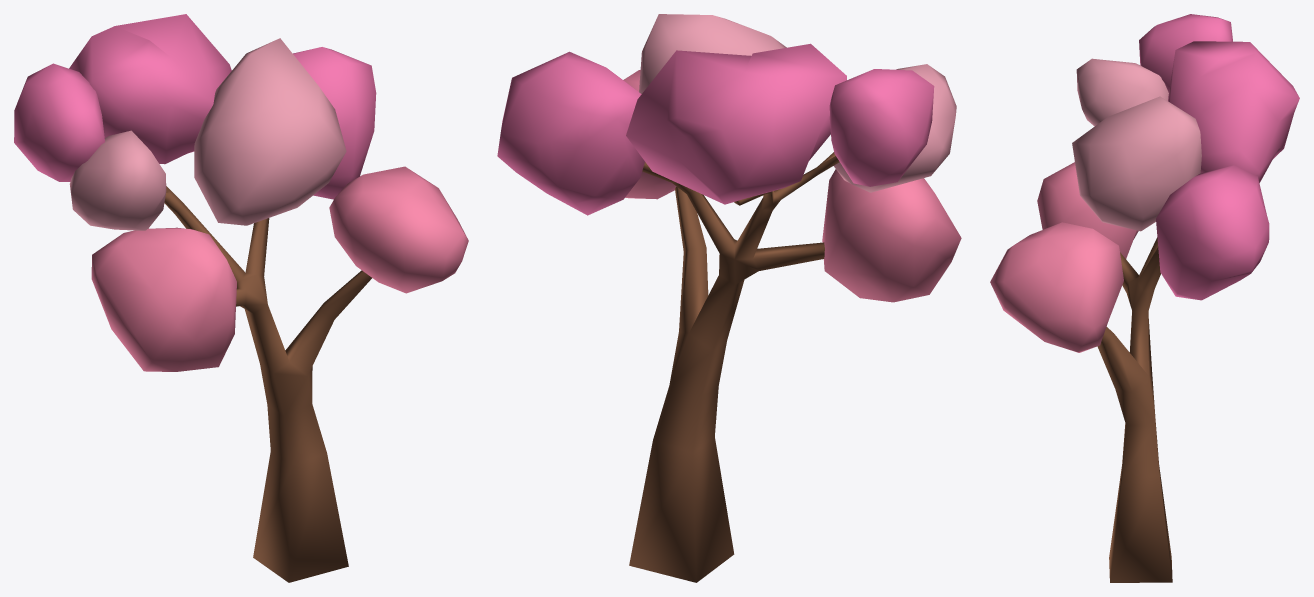
File: Sakura_4.fbx
3 renders of one model, left to right at view 1: azimuth 30°, elevation 25°; view 2: azimuth 150°, elevation 25°; view 3: azimuth 270°, elevation 25°, orthographic. The views are drawn at different scales.
Parts seen in each view (by area): view 1: Cube_168, Tree2_Leave6_001, Tree2_Leave3_003, Tree2_Leave4_001, Tree2_Leave1_001, Tree2_Leave1_002, Tree2_Leave2_001, Tree2_Leave5_001; view 2: Cube_168, Tree2_Leave4_001, Tree2_Leave5_001, Tree2_Leave3_003, Tree2_Leave1_002, Tree2_Leave6_001, Tree2_Leave2_001, Tree2_Leave1_001; view 3: Cube_168, Tree2_Leave4_001, Tree2_Leave1_001, Tree2_Leave6_001, Tree2_Leave5_001, Tree2_Leave2_001, Tree2_Leave3_003, Tree2_Leave1_002.
Boxes of the visible parts, x1,y1,x2,y2 form: Cube_168: (164, 186, 371, 582); Tree2_Leave6_001: (194, 38, 346, 225); Tree2_Leave3_003: (91, 227, 236, 371); Tree2_Leave4_001: (69, 14, 231, 164); Tree2_Leave1_001: (329, 166, 468, 293); Tree2_Leave1_002: (14, 63, 104, 181); Tree2_Leave2_001: (69, 130, 166, 230); Tree2_Leave5_001: (293, 47, 376, 199); Cube_168: (629, 152, 839, 582); Tree2_Leave4_001: (626, 43, 846, 204); Tree2_Leave5_001: (497, 51, 644, 215); Tree2_Leave3_003: (822, 169, 961, 302); Tree2_Leave1_002: (829, 69, 934, 186); Tree2_Leave6_001: (639, 14, 786, 93); Tree2_Leave2_001: (833, 64, 956, 192); Tree2_Leave1_001: (623, 70, 676, 199); Cube_168: (1097, 237, 1172, 582); Tree2_Leave4_001: (1168, 41, 1299, 182); Tree2_Leave1_001: (990, 222, 1123, 352); Tree2_Leave6_001: (1072, 96, 1201, 231); Tree2_Leave5_001: (1156, 165, 1269, 300); Tree2_Leave2_001: (1076, 58, 1168, 126); Tree2_Leave3_003: (1037, 162, 1138, 258); Tree2_Leave1_002: (1139, 14, 1232, 92).
Size of the model in its own units: 388 by 523 by 316.
